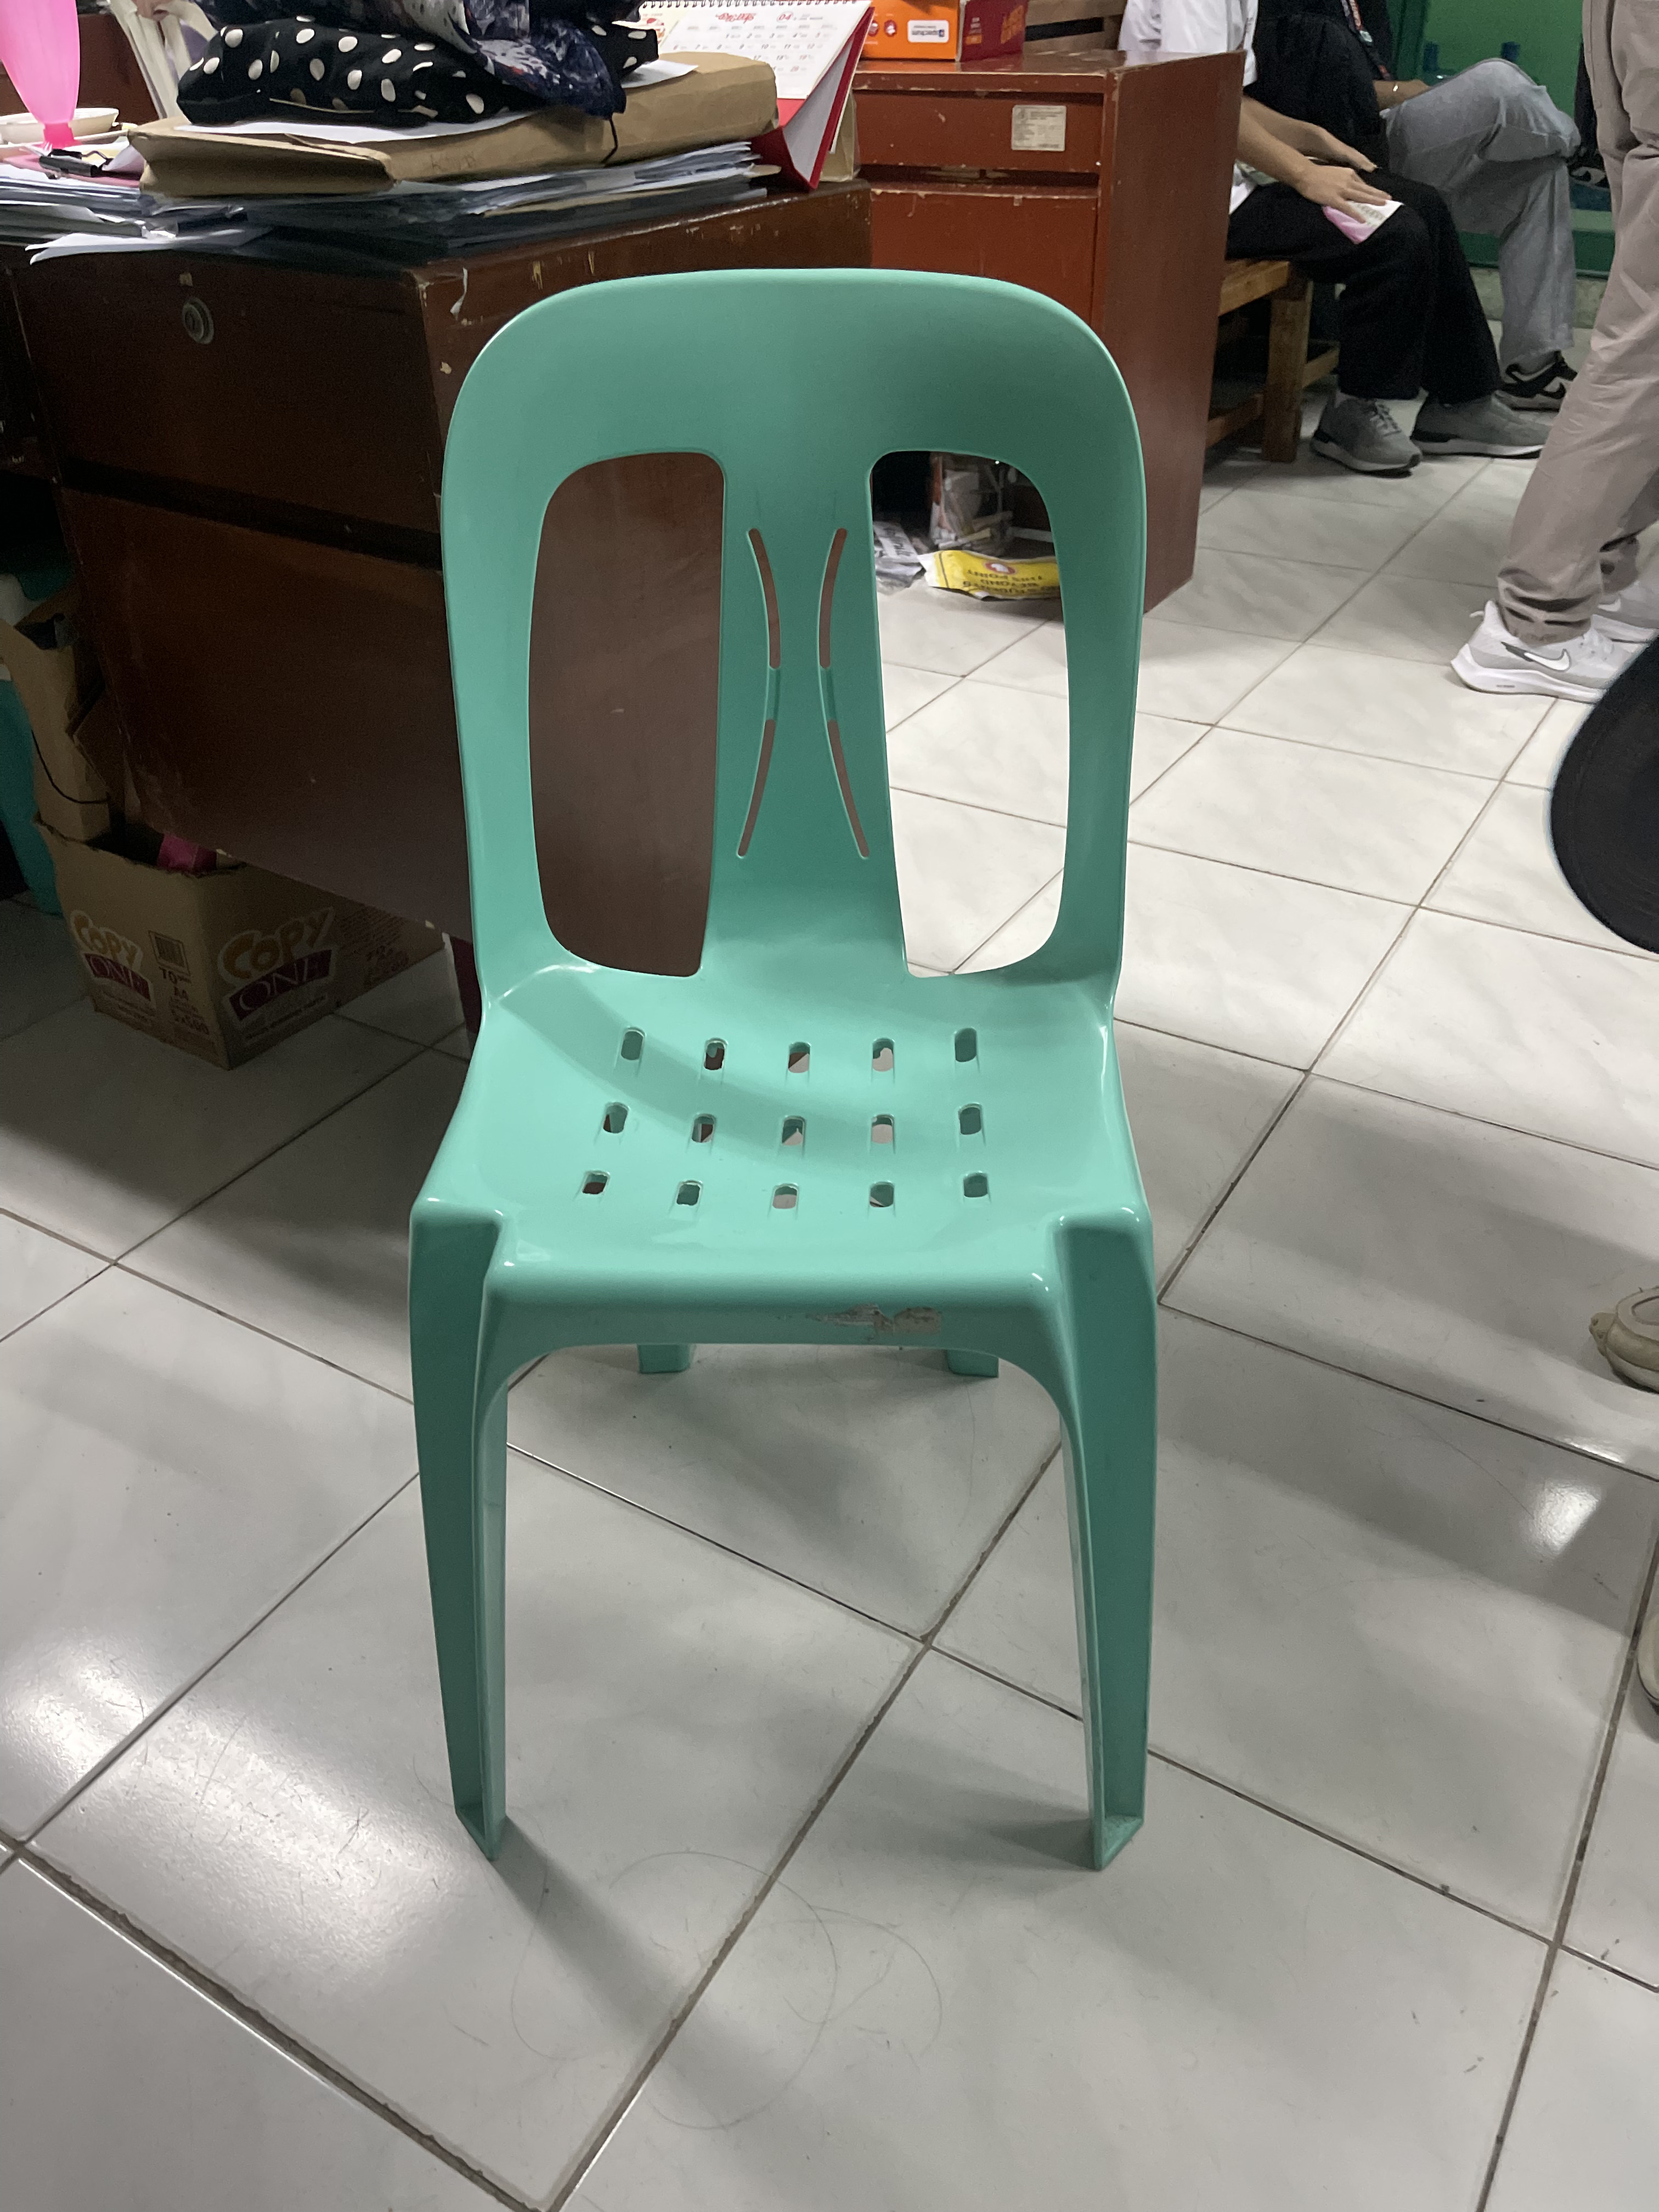chair2: (403, 260, 1168, 1883)
